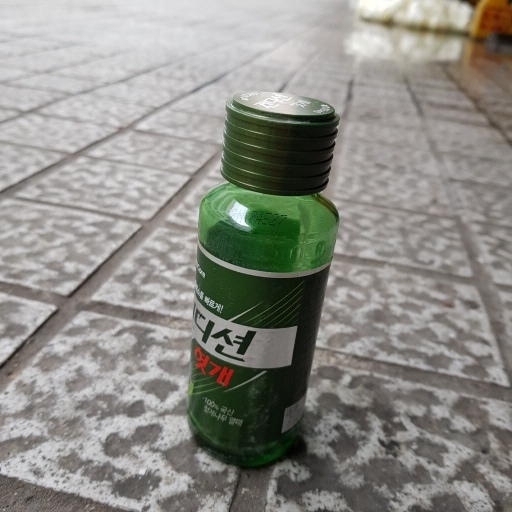Glass_4: (181, 88, 343, 478)
